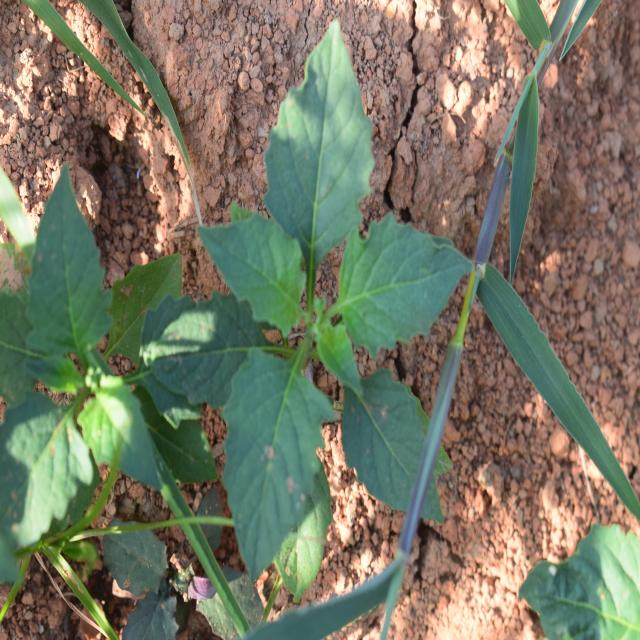Black_nightshade: (211, 57, 448, 540), (0, 165, 202, 524)
